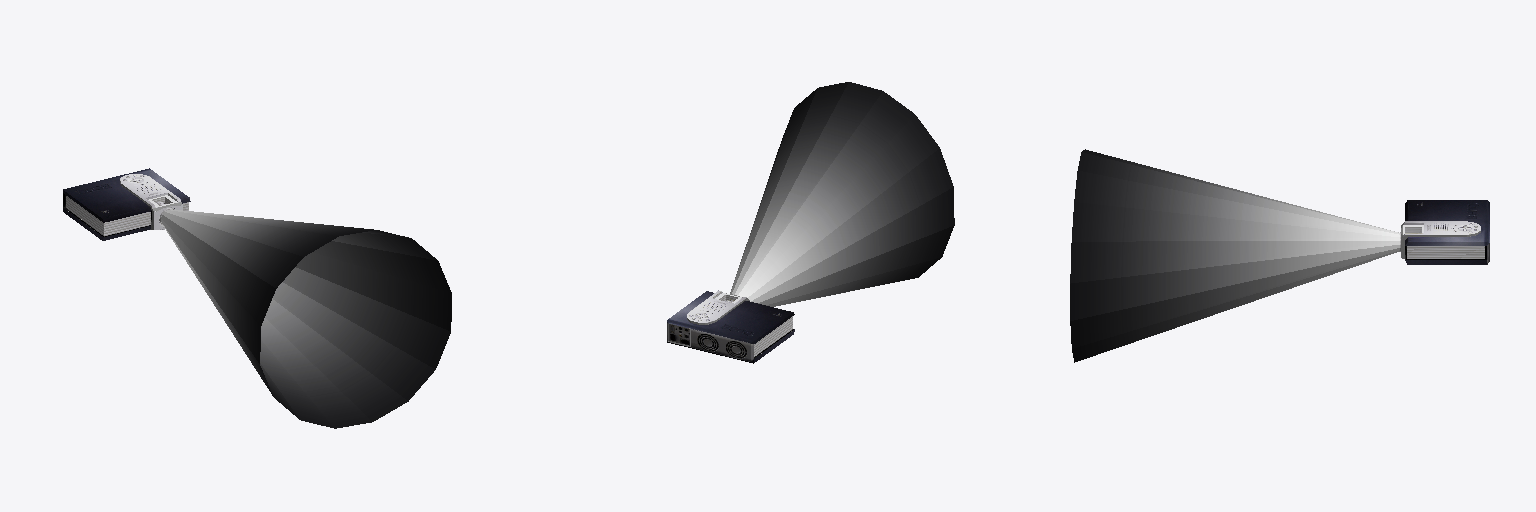
The picture shows the model from 3 angles: view 1: azimuth 30°, elevation 25°; view 2: azimuth 150°, elevation 25°; view 3: azimuth 270°, elevation 25°; orthographic projection.
Parts seen in each view (by area): view 1: Plane.547_Plane.001; view 2: Plane.547_Plane.001; view 3: Plane.547_Plane.001.
Boxes of the visible parts, x1=… form: Plane.547_Plane.001: x1=63, y1=168, x2=451, y2=428; Plane.547_Plane.001: x1=667, y1=82, x2=954, y2=363; Plane.547_Plane.001: x1=1070, y1=149, x2=1489, y2=362.
Size of the model in its own units: 0.1736 by 0.175 by 0.3458.
Materials: 3 (2 with a texture image).